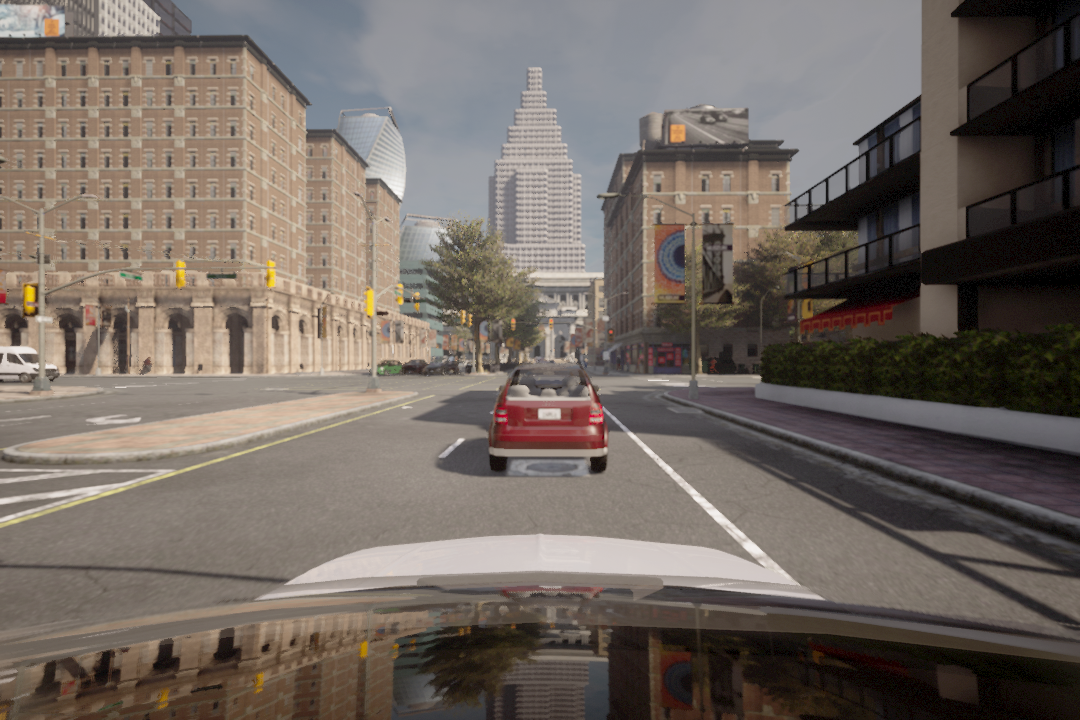RoadSign_left: (81, 407, 144, 427)
